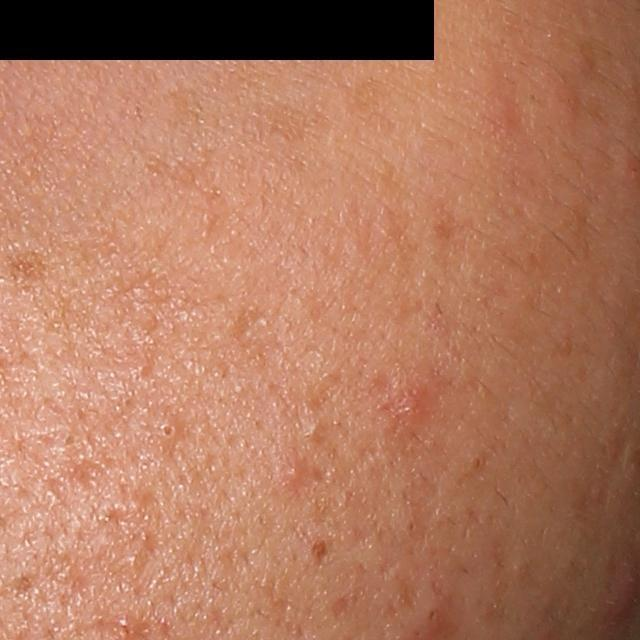comedo: (155, 416, 181, 444)
melasma: (259, 97, 321, 146), (0, 244, 49, 286)
papule: (390, 375, 435, 423), (606, 563, 640, 622), (284, 462, 306, 485)
